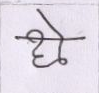o_matra: (51, 23, 67, 64)
